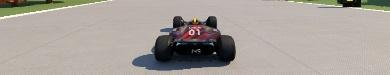Car: (153, 15, 236, 62)
curve: (0, 0, 389, 74)
